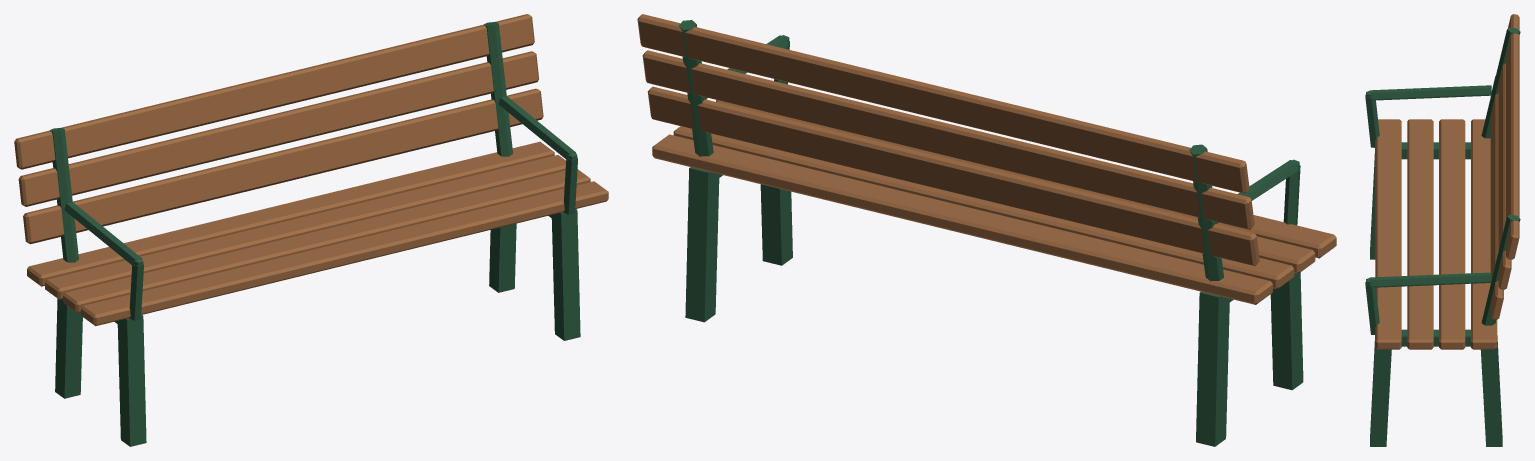
The model's file is park_bench.glb.
3 renders of one model, left to right at view 1: azimuth 30°, elevation 25°; view 2: azimuth 150°, elevation 25°; view 3: azimuth 270°, elevation 25°, orthographic. The views are drawn at different scales.
Parts seen in each view (by area): view 1: park_bench; view 2: park_bench; view 3: park_bench.
Part boxes in pixels (x1=…): park_bench: x1=14, y1=14, x2=608, y2=446; park_bench: x1=637, y1=14, x2=1336, y2=446; park_bench: x1=1365, y1=14, x2=1520, y2=446.
Size of the model in its own units: 1.9 by 0.9053 by 0.5605.
